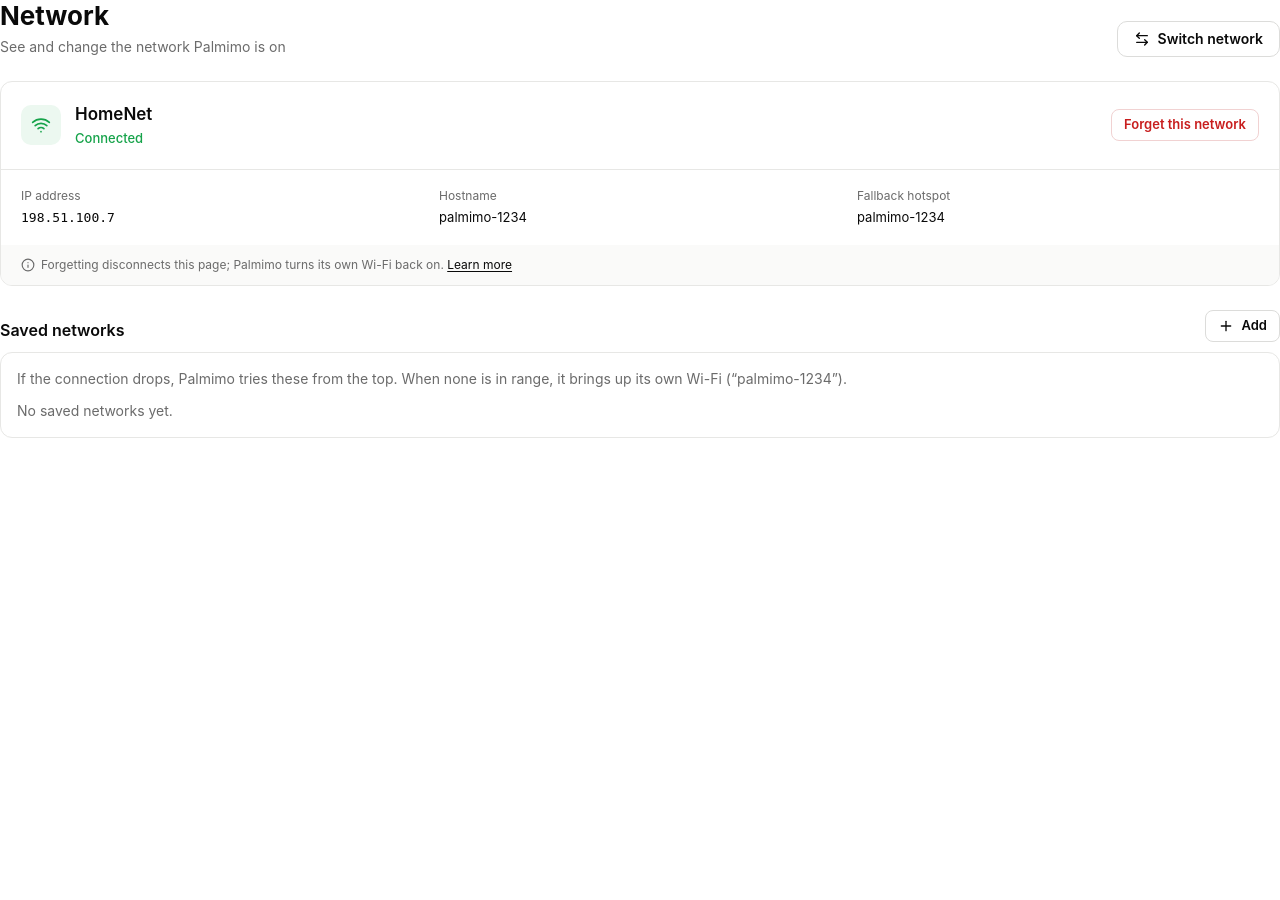
Test: WifiSettingsPanel › treats a network-level DELETE failure as success -- the device dropping the LAN mid-response is expected
Step 1. Click the button "Forget this network" → coordinates (1185, 125), box [1111,109,1259,141]
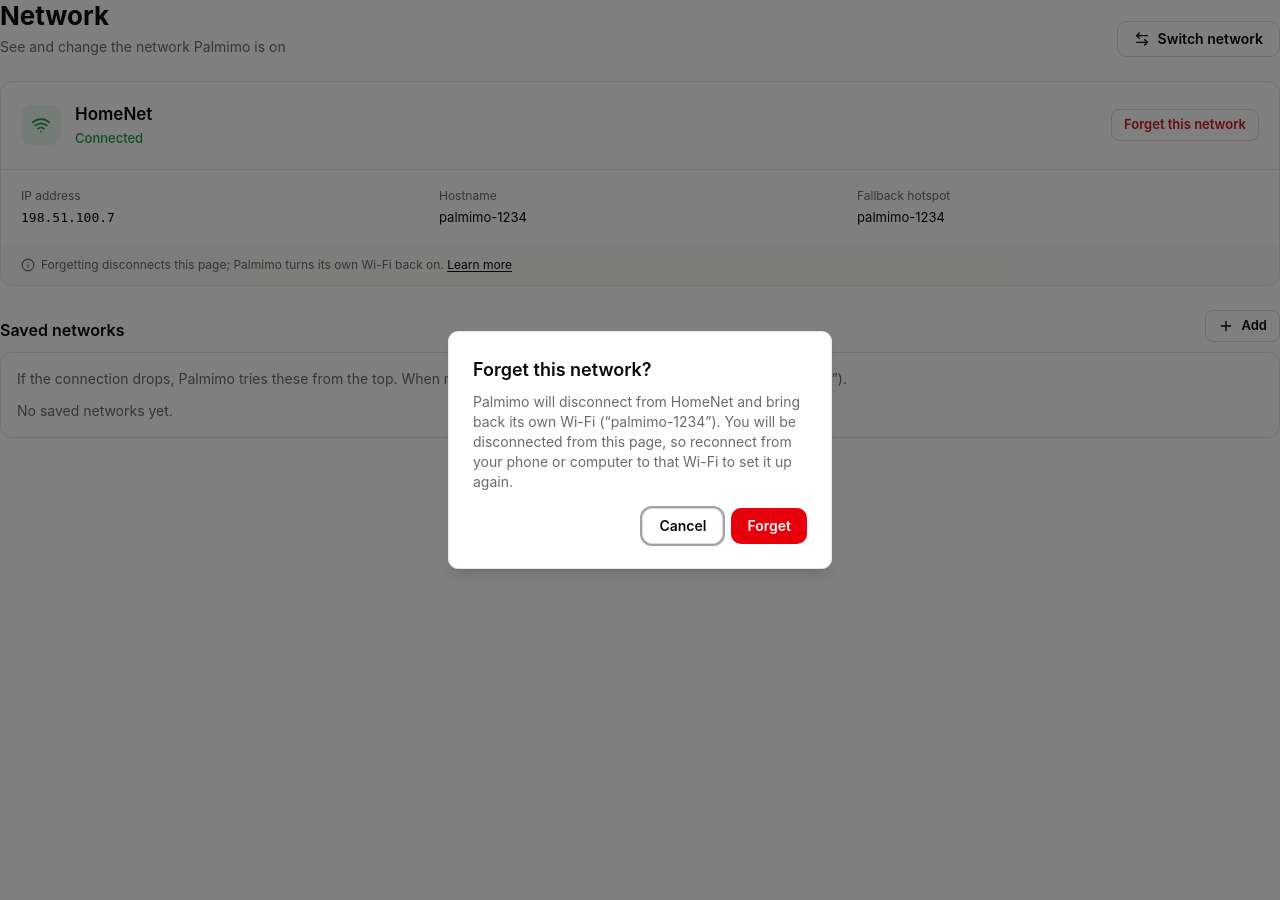
Step 2. Click the button "Forget" → coordinates (769, 526), box [732,508,807,544]
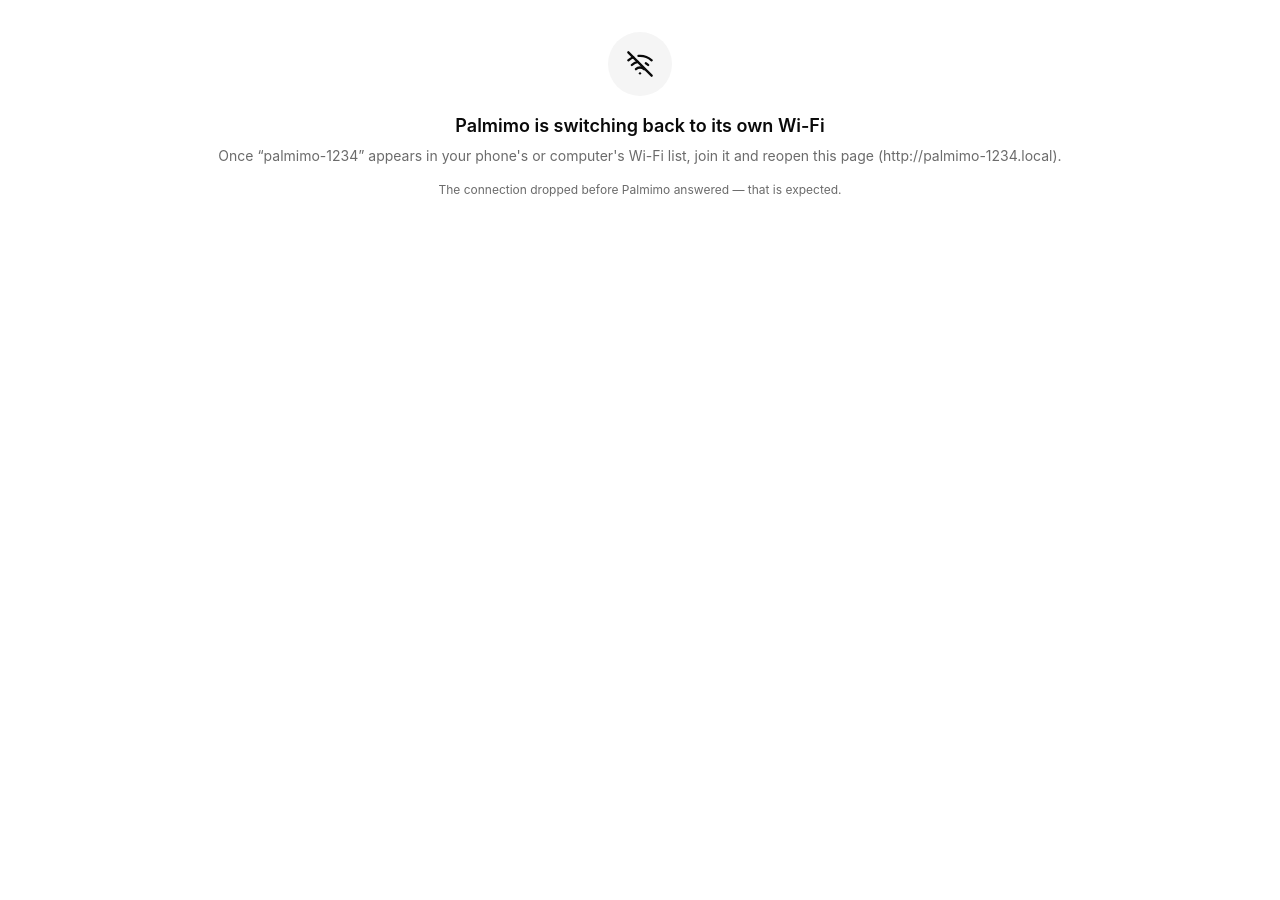
Check: the text "Palmimo is switching back to its own Wi-Fi" is shown, box [455,115,825,136]
Check: the text "The connection dropped before Palmimo answered — that is expected." is shown, box [438,182,842,198]
